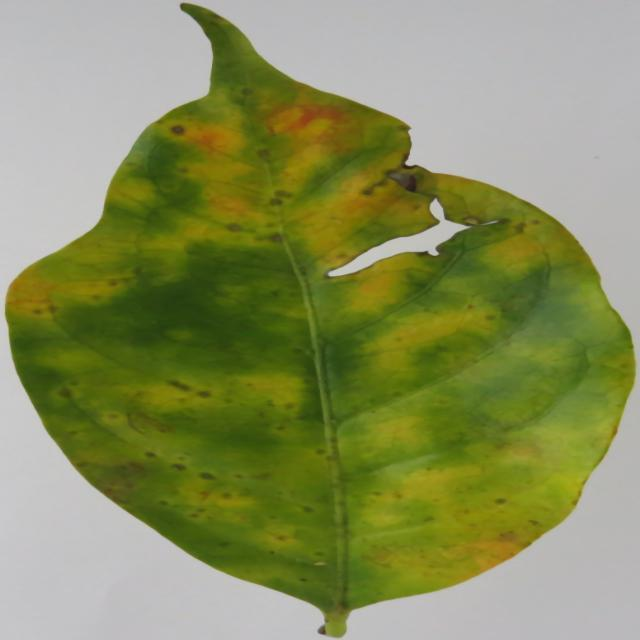DeficienciaNutricional-Fosforo: (7, 5, 633, 636)
